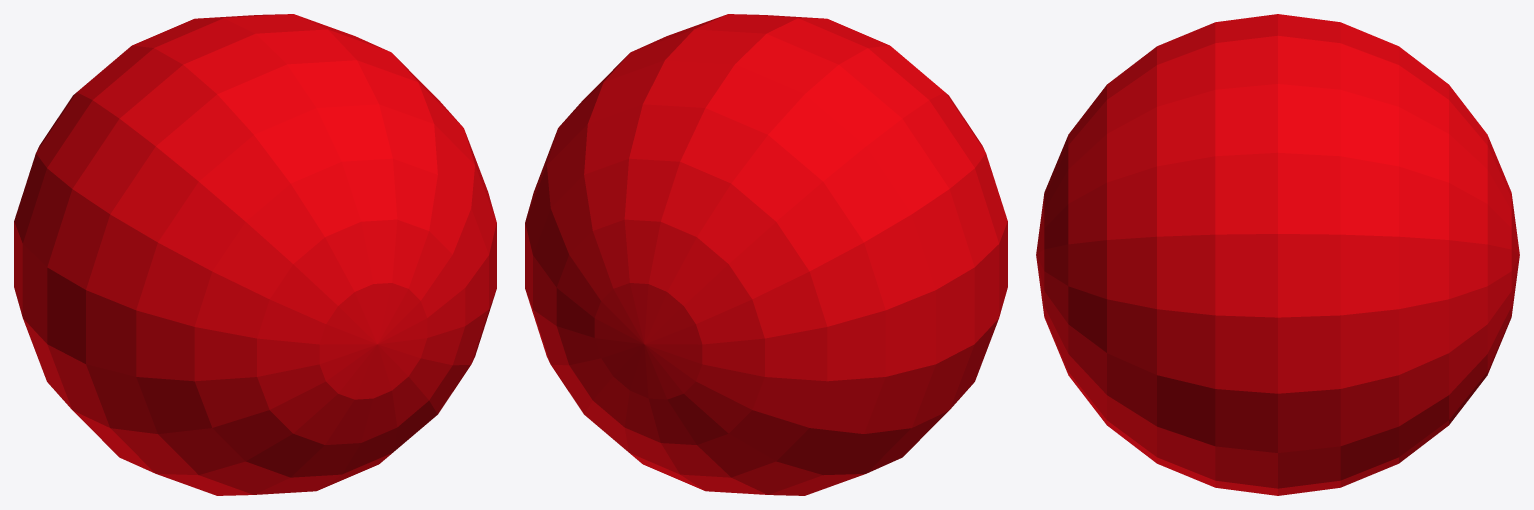
Rendered from bullet.glb.
3 views of the same model, side by side, from view 1: azimuth 30°, elevation 25°; view 2: azimuth 150°, elevation 25°; view 3: azimuth 270°, elevation 25° (orthographic).
Parts seen in each view (by area): view 1: Sphere; view 2: Sphere; view 3: Sphere.
Boxes of the visible parts, left/top/right/bottom form: Sphere: left=14, top=14, right=496, bottom=495; Sphere: left=525, top=14, right=1007, bottom=495; Sphere: left=1036, top=14, right=1519, bottom=495.
Size of the model in its own units: 0.2757 by 0.28 by 0.28.
Materials: 1 (1 with a texture image).
